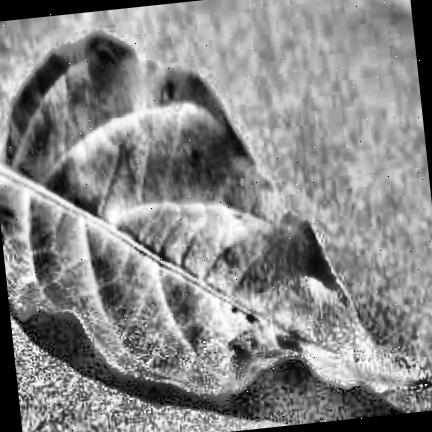leaf: (0, 36, 432, 397)
